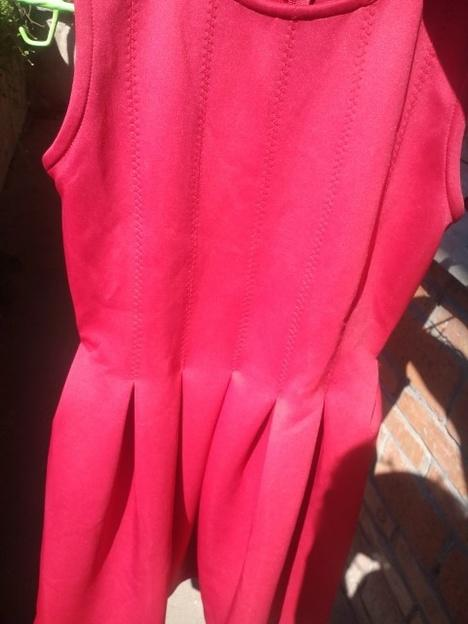C_dress: (12, 1, 465, 624)
